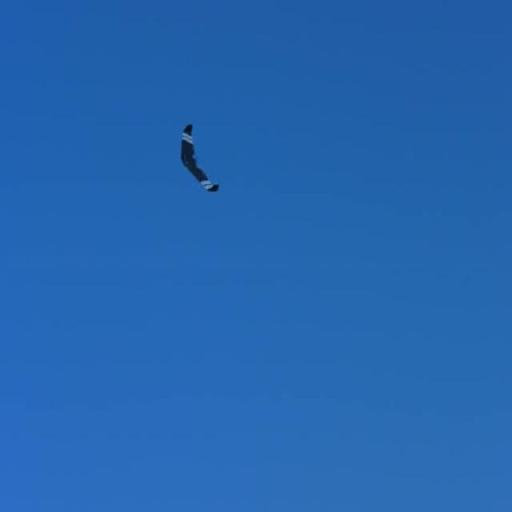uav: (177, 118, 225, 200)
